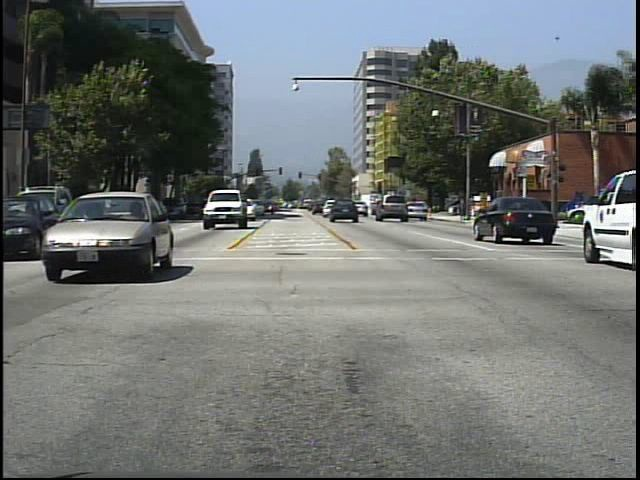person: (508, 192, 528, 231), (467, 192, 479, 222)
